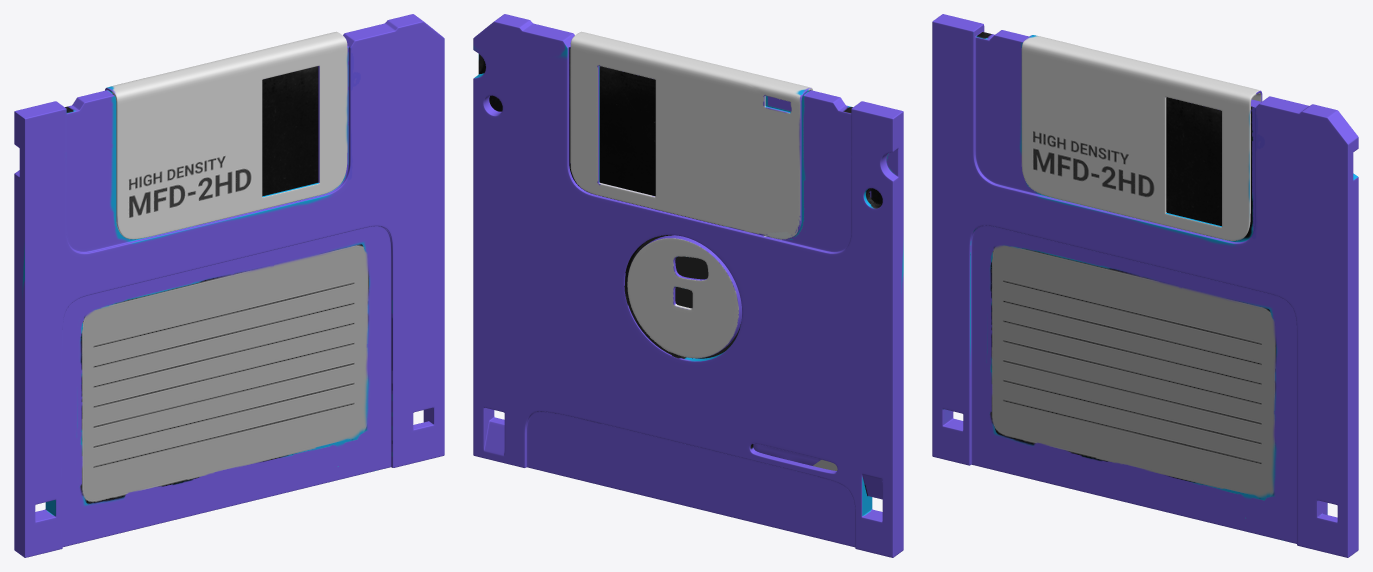
File: floppy_purple.glb
The picture shows the model from 3 angles, left to right: view 1: azimuth 30°, elevation 25°; view 2: azimuth 150°, elevation 25°; view 3: azimuth 330°, elevation 25°; orthographic projection.
Parts seen in each view (by area): view 1: Floppy_0; view 2: Floppy_0; view 3: Floppy_0.
Part boxes in pixels (x1,y1,x2,y2): Floppy_0: (14,14,444,557); Floppy_0: (473,14,903,557); Floppy_0: (932,14,1358,557).
Size of the model in its own units: 0.2182 by 0.2194 by 0.0117.
Materials: 1 (1 with a texture image).
